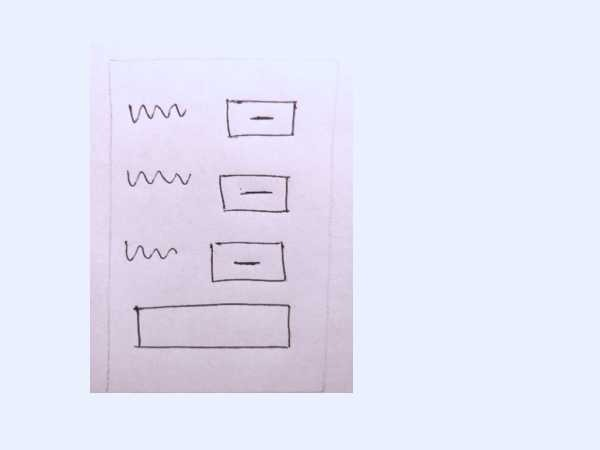button: (217, 91, 301, 146), (205, 237, 292, 290), (215, 169, 295, 218)
text: (119, 163, 194, 195), (119, 97, 191, 128), (120, 235, 182, 268)
text_input: (124, 297, 296, 359)
